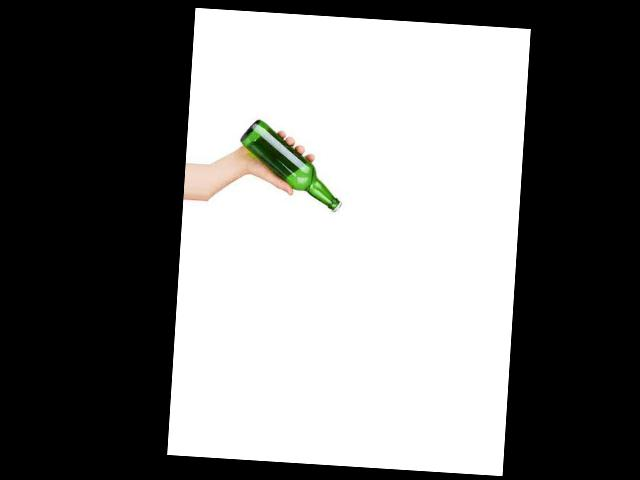beer: (234, 119, 344, 212)
